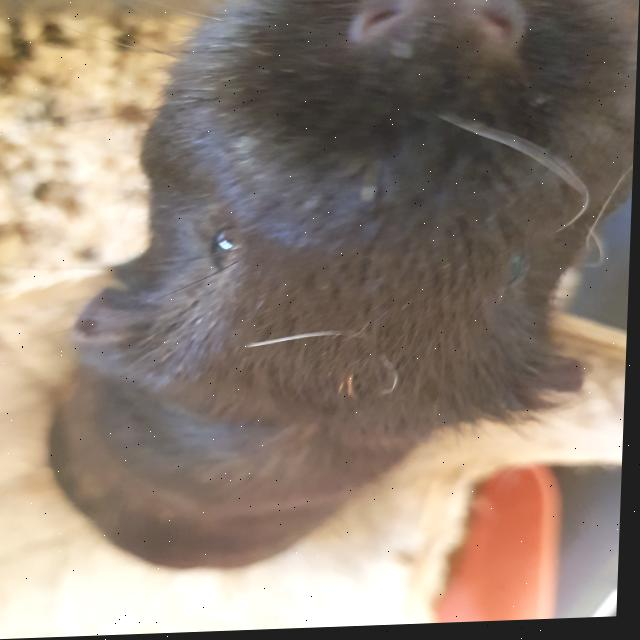guinea pig: (39, 0, 640, 579)
